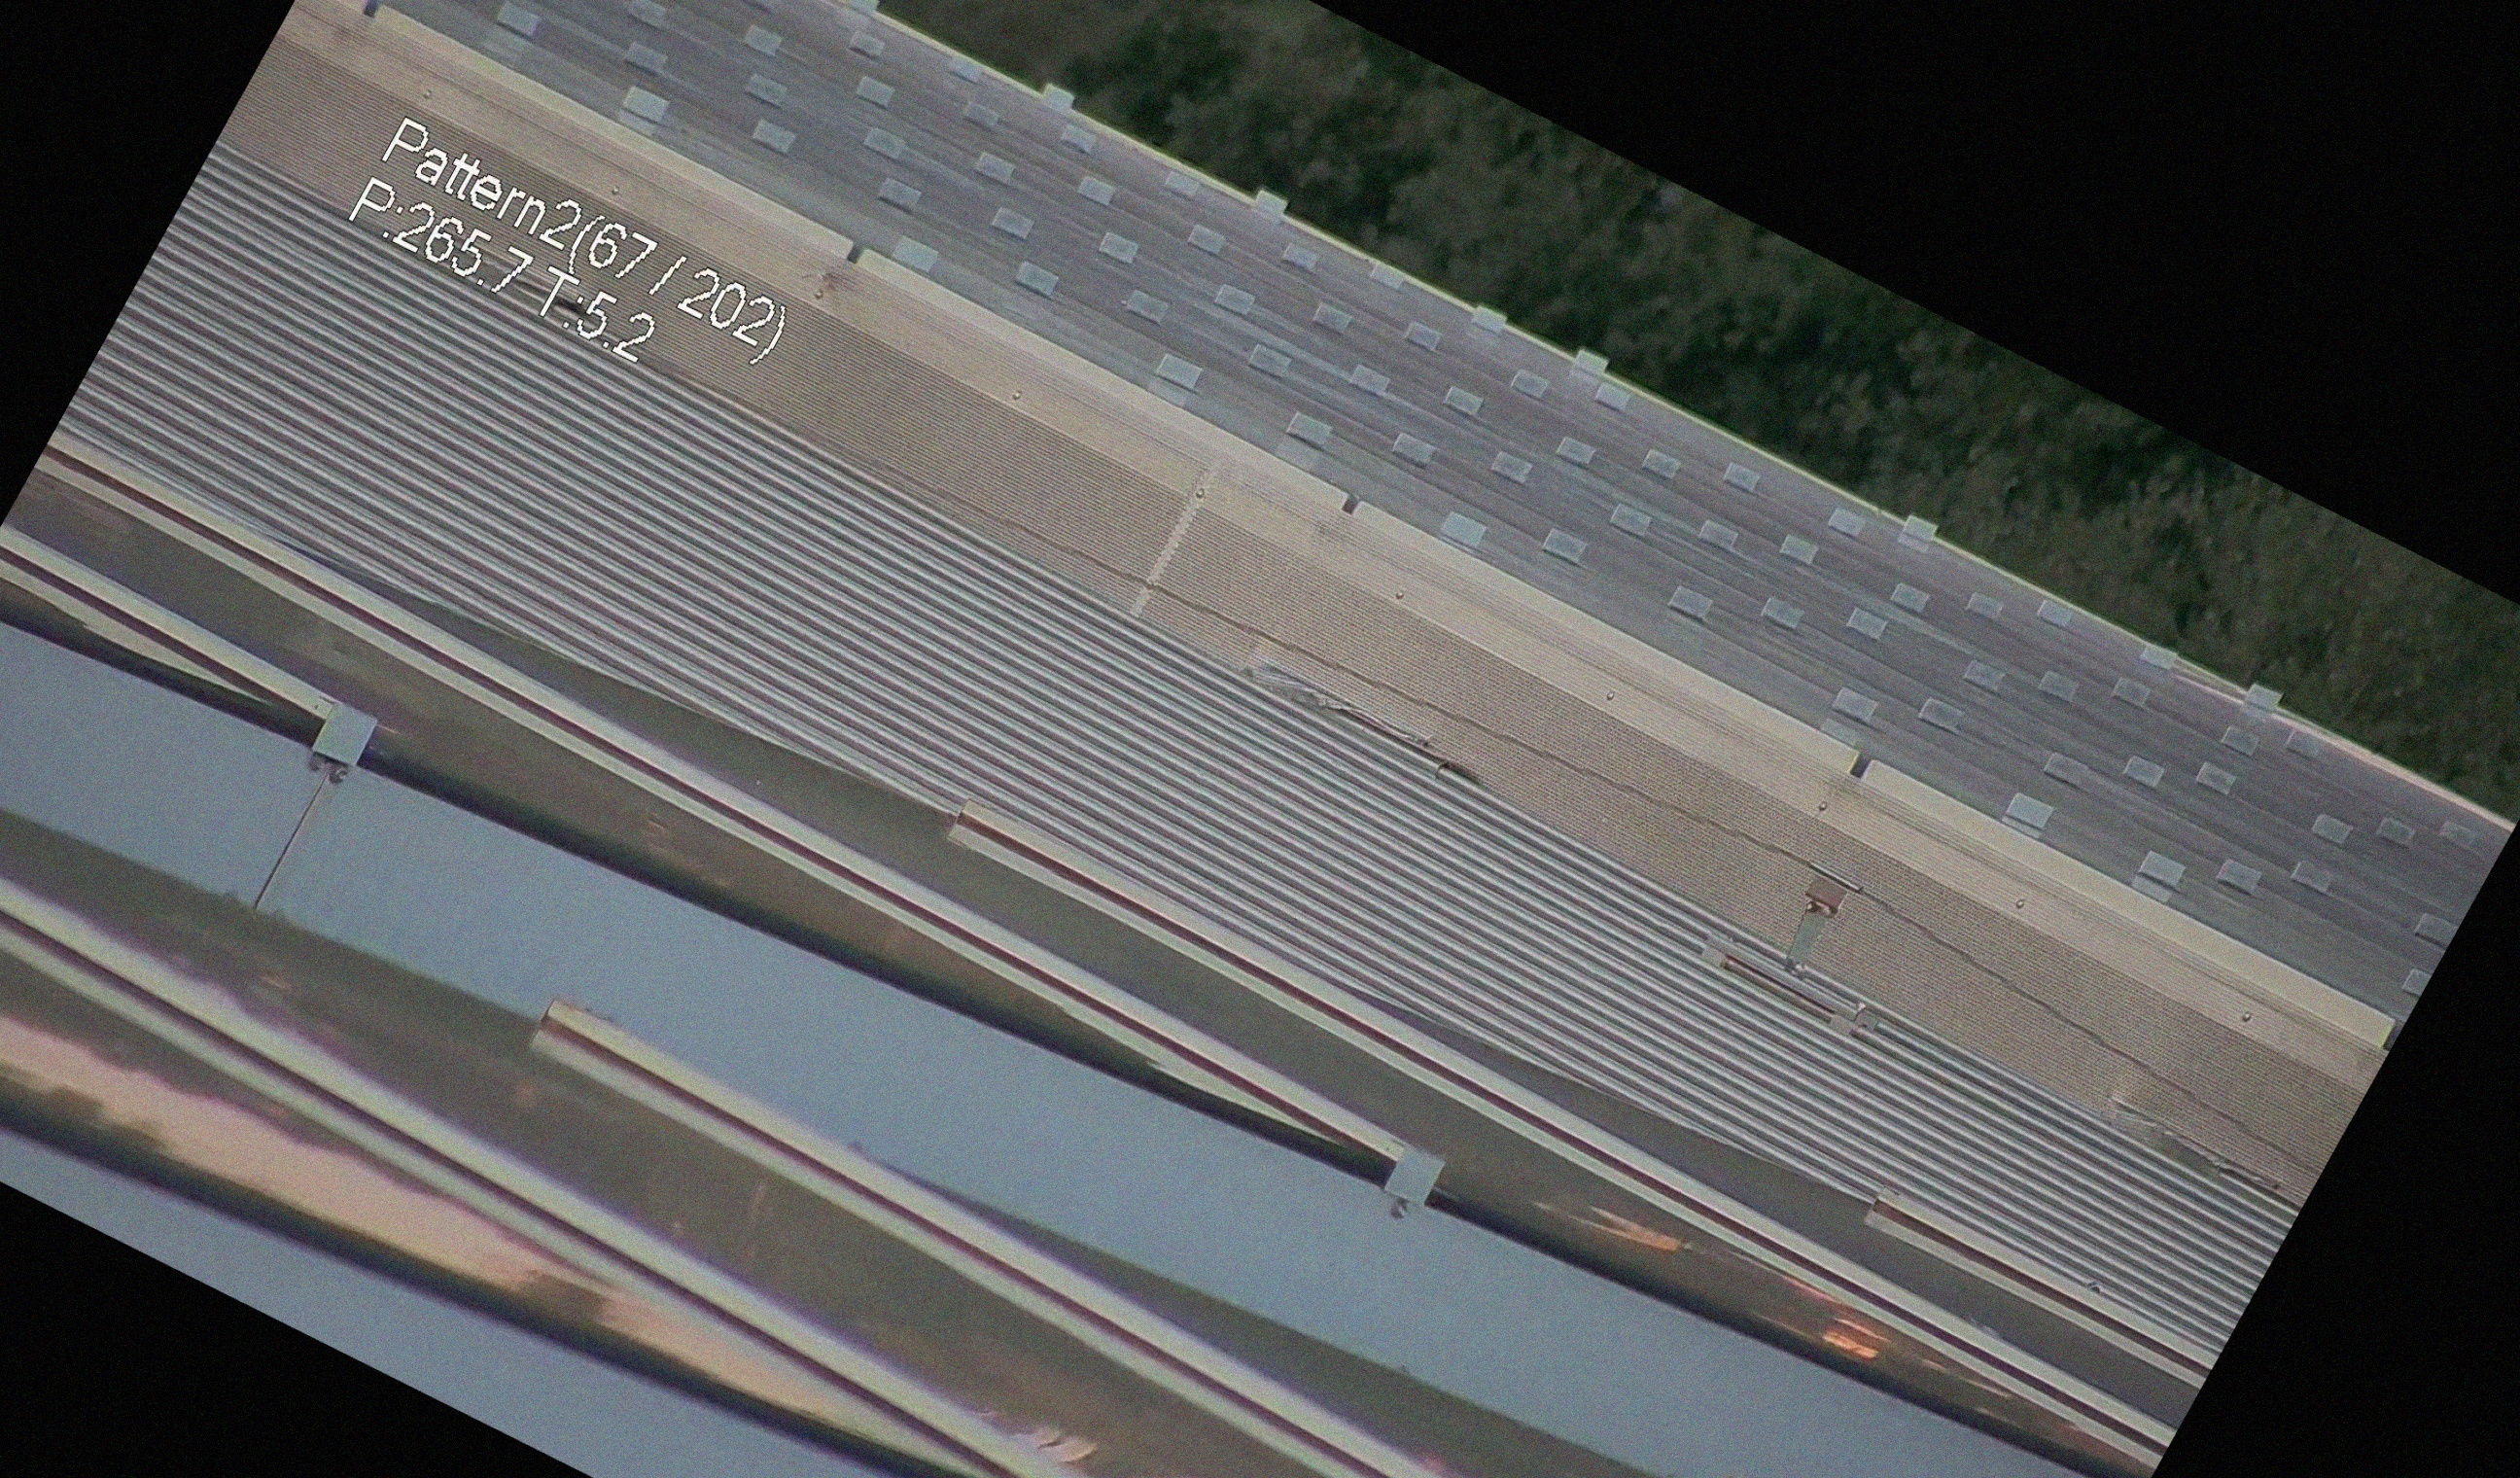Other: (1773, 857, 1880, 977)
